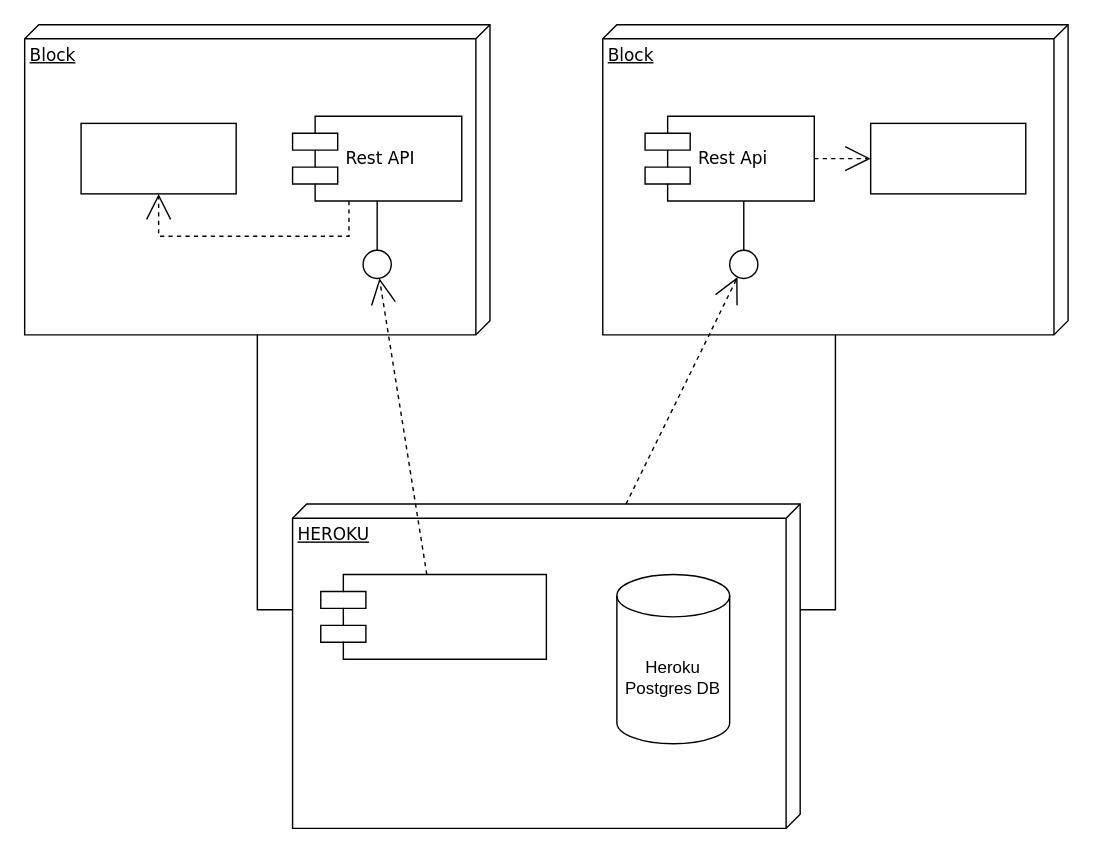
The diagram is 1093 pixels wide and 853 high, and some of its shapes have lost their labels. The centre of each missing label's shape, as x and y in pixels:
"DJango REST API" belongs at pixel 432 616.
"Merchant App" belongs at pixel 158 158.
"React Instant Store" belongs at pixel 947 158.
